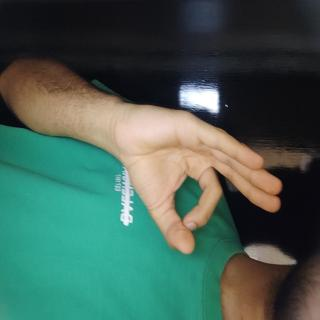Space: (69, 43, 195, 282)
